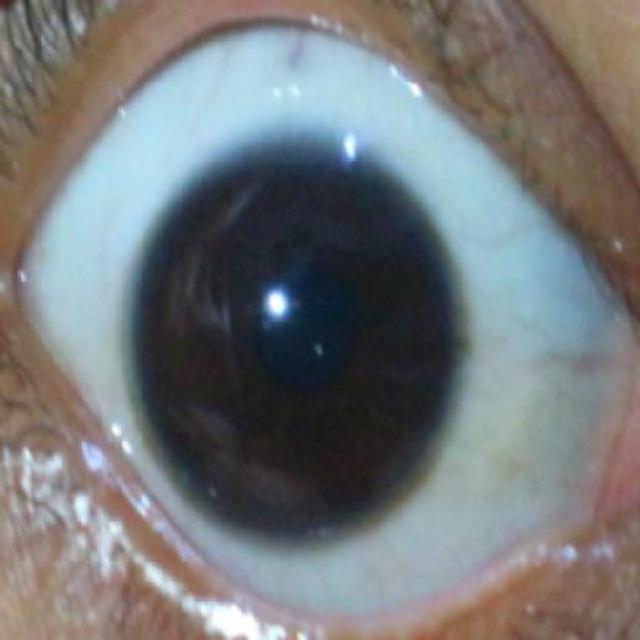Normal: (123, 131, 468, 548)
